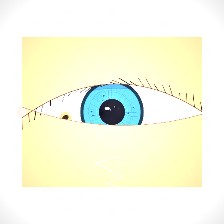foreign_body_visible: (48, 104, 82, 131)
